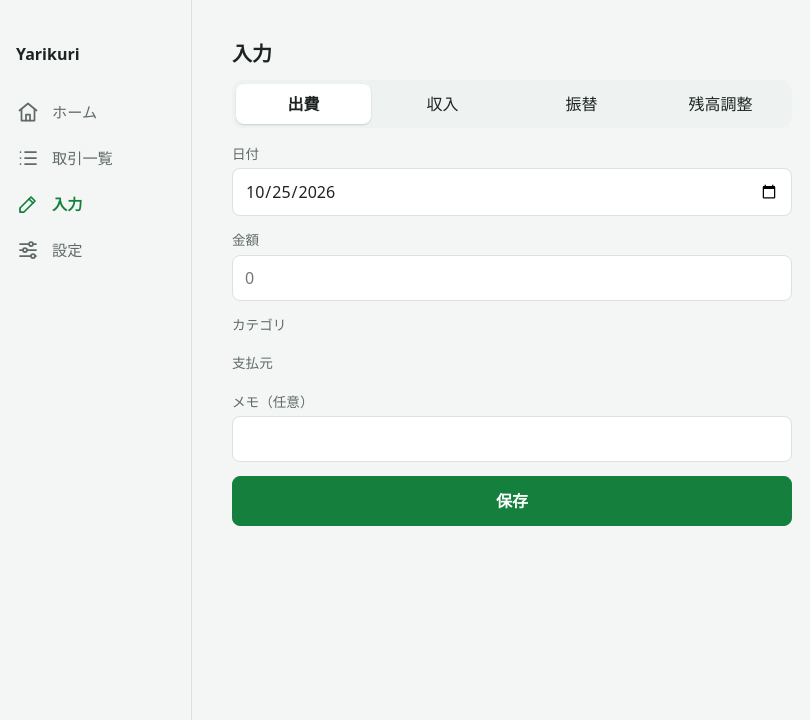
Test: 入力エラー › 金額「-5」は保存されない
Step 1. Type "-5" into the field labelled "金額" → (512, 278), box [232,255,792,301]
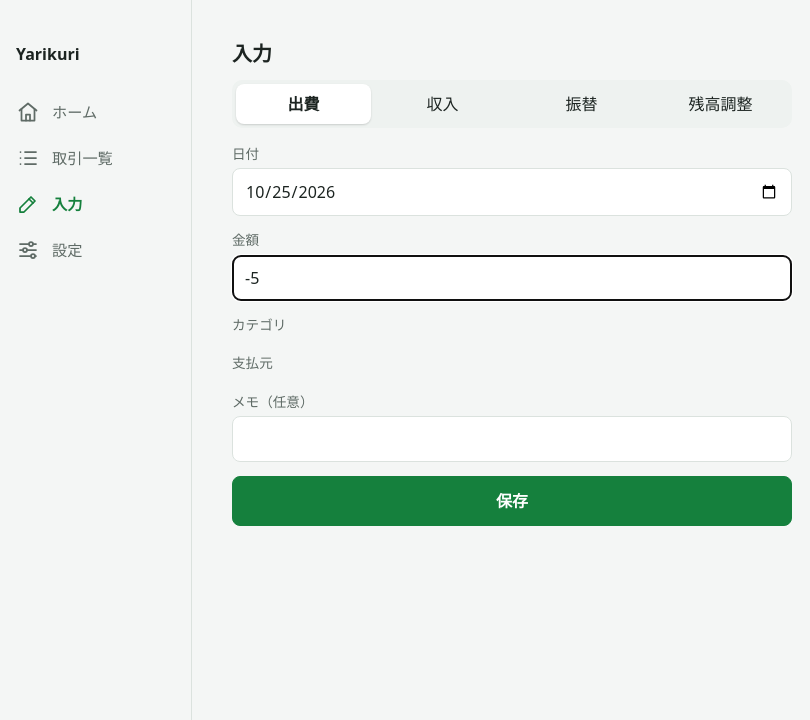
Step 2. Click the button "保存" → (512, 501), box [232,476,792,526]
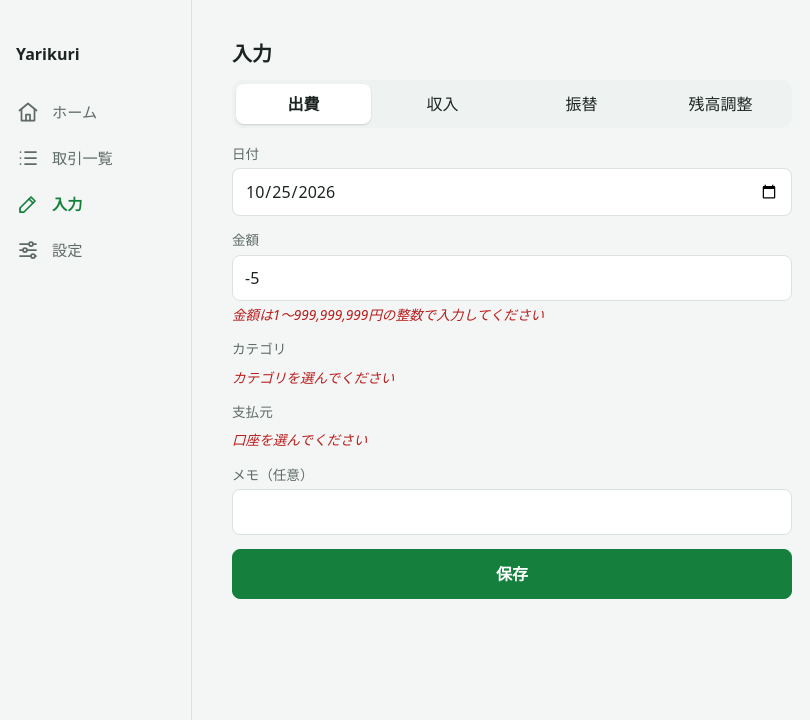
Expected: the message shows "金額は1〜999,999,999円", [232,305,544,324]
